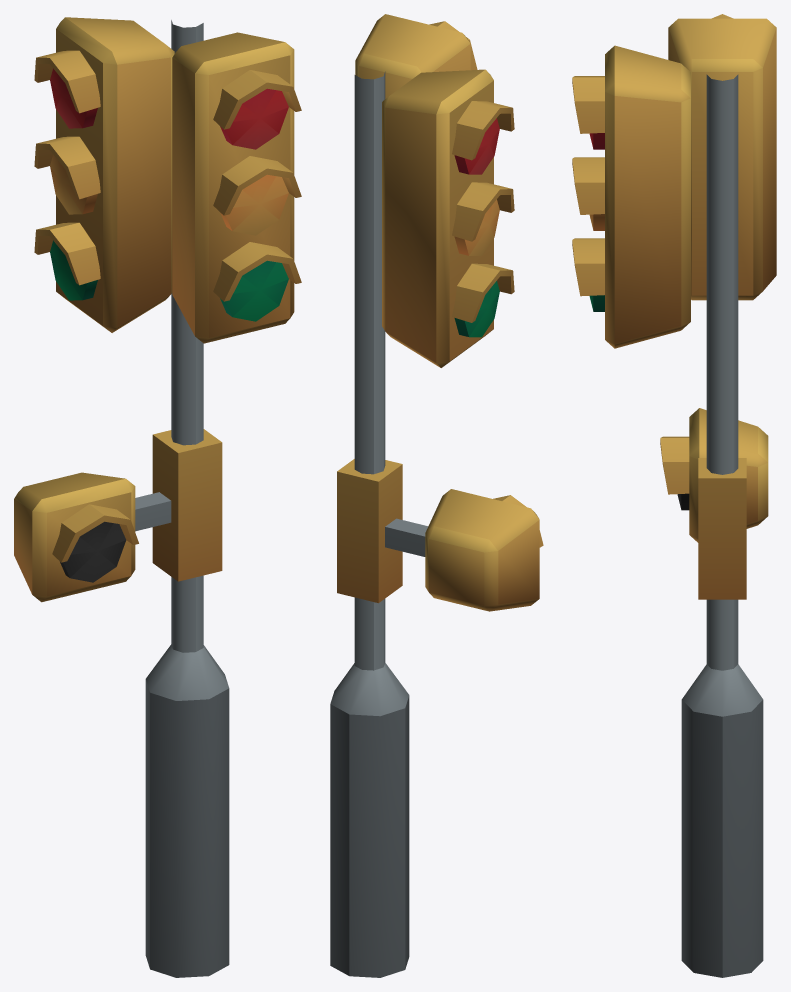
The model's file is city-trafficlight-a.glb.
3 views of the same model, side by side, from view 1: azimuth 30°, elevation 25°; view 2: azimuth 150°, elevation 25°; view 3: azimuth 270°, elevation 25° (orthographic). The views are drawn at different scales.
Parts seen in each view (by area): view 1: trafficlight_A; view 2: trafficlight_A; view 3: trafficlight_A.
Part boxes in pixels (left/top/right/bottom): trafficlight_A: left=14, top=17, right=301, bottom=977; trafficlight_A: left=330, top=14, right=543, bottom=977; trafficlight_A: left=572, top=14, right=776, bottom=977.
Bounding box in the file's own units: 0.1744 × 0.7295 × 0.1506.
